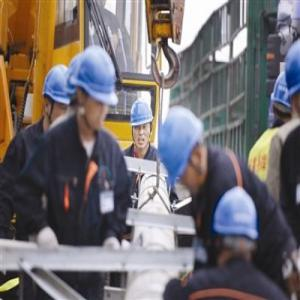blue: (161, 105, 208, 195), (214, 184, 260, 261), (76, 44, 116, 132), (43, 64, 71, 125), (131, 98, 154, 152), (273, 71, 296, 124)
